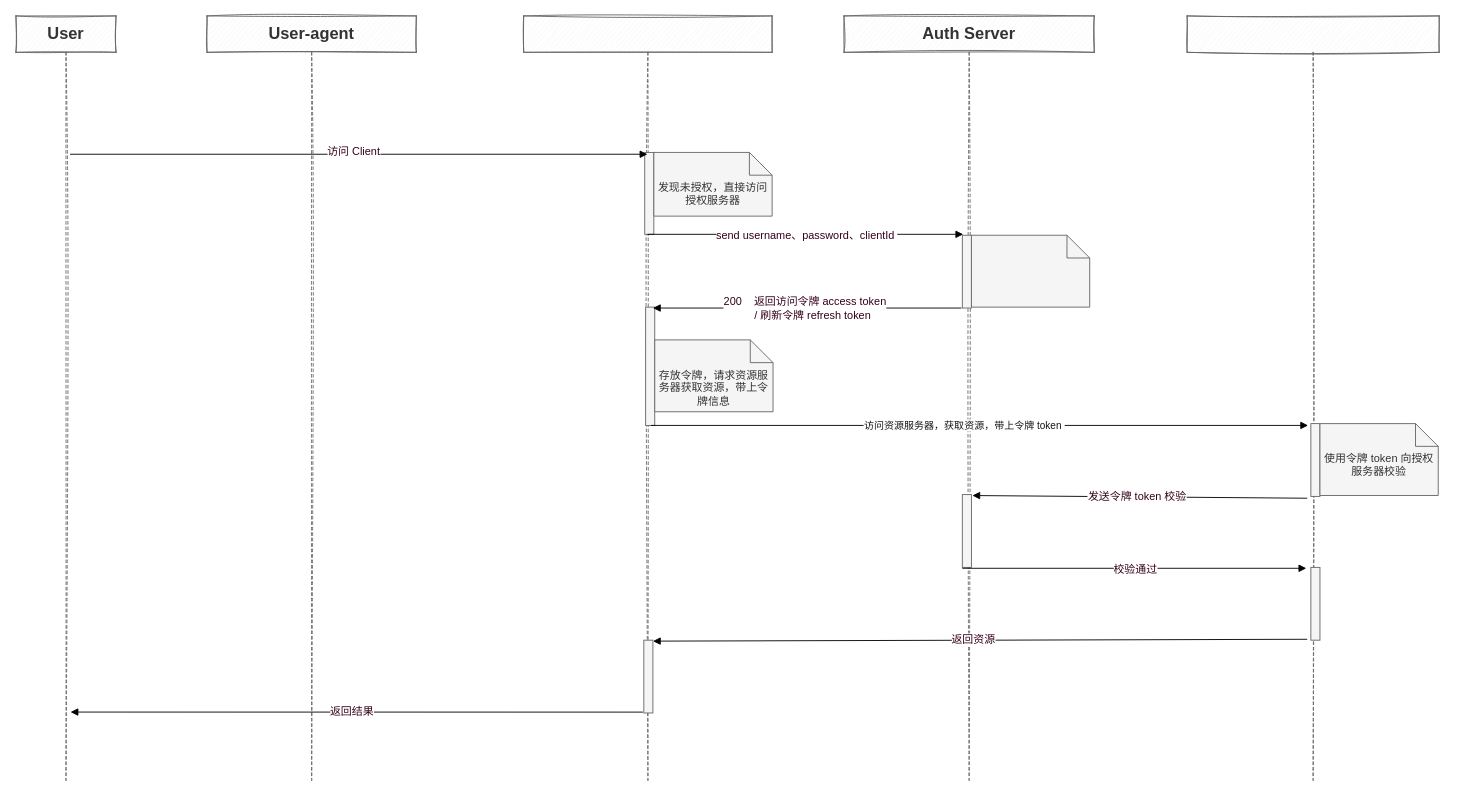
Image size: 1459x796. Some labels were removed from this diagram. The shapes that lost their labels are listed below. From the top down, each one's box as (x1, y1, x2, y2) in pixels, then its label:
(971, 234, 1090, 307): 校验通过后，返回令牌 token
(523, 15, 772, 780): Client
(1186, 15, 1439, 780): Resource Server
